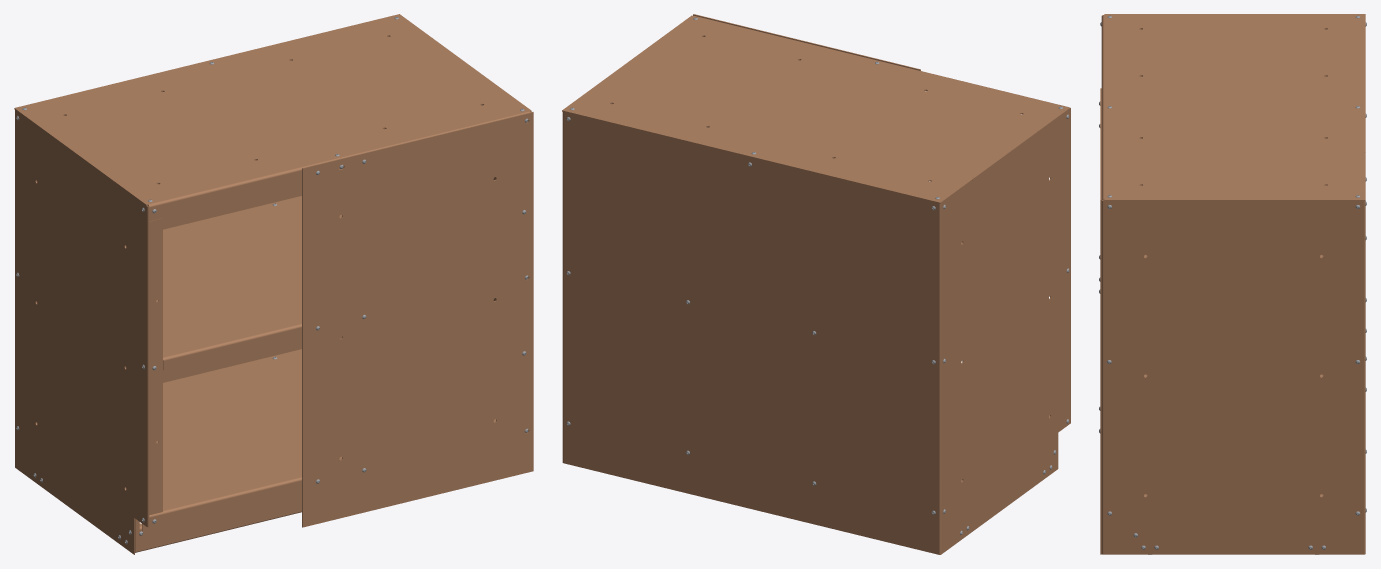
Rendered from hornbank1000H.glb.
The picture shows the model from 3 angles, left to right: view 1: azimuth 30°, elevation 25°; view 2: azimuth 150°, elevation 25°; view 3: azimuth 270°, elevation 25°; orthographic projection.
Visible parts, largest first — view 1: corten; view 2: corten; view 3: corten, stal.
Part boxes in pixels (bbox=[...]): corten: bbox=[14, 14, 533, 554]; corten: bbox=[562, 14, 1070, 554]; corten: bbox=[1100, 14, 1365, 554]; stal: bbox=[1099, 15, 1366, 549].
Size of the model in its own units: 1.01 by 0.895 by 0.6089.
